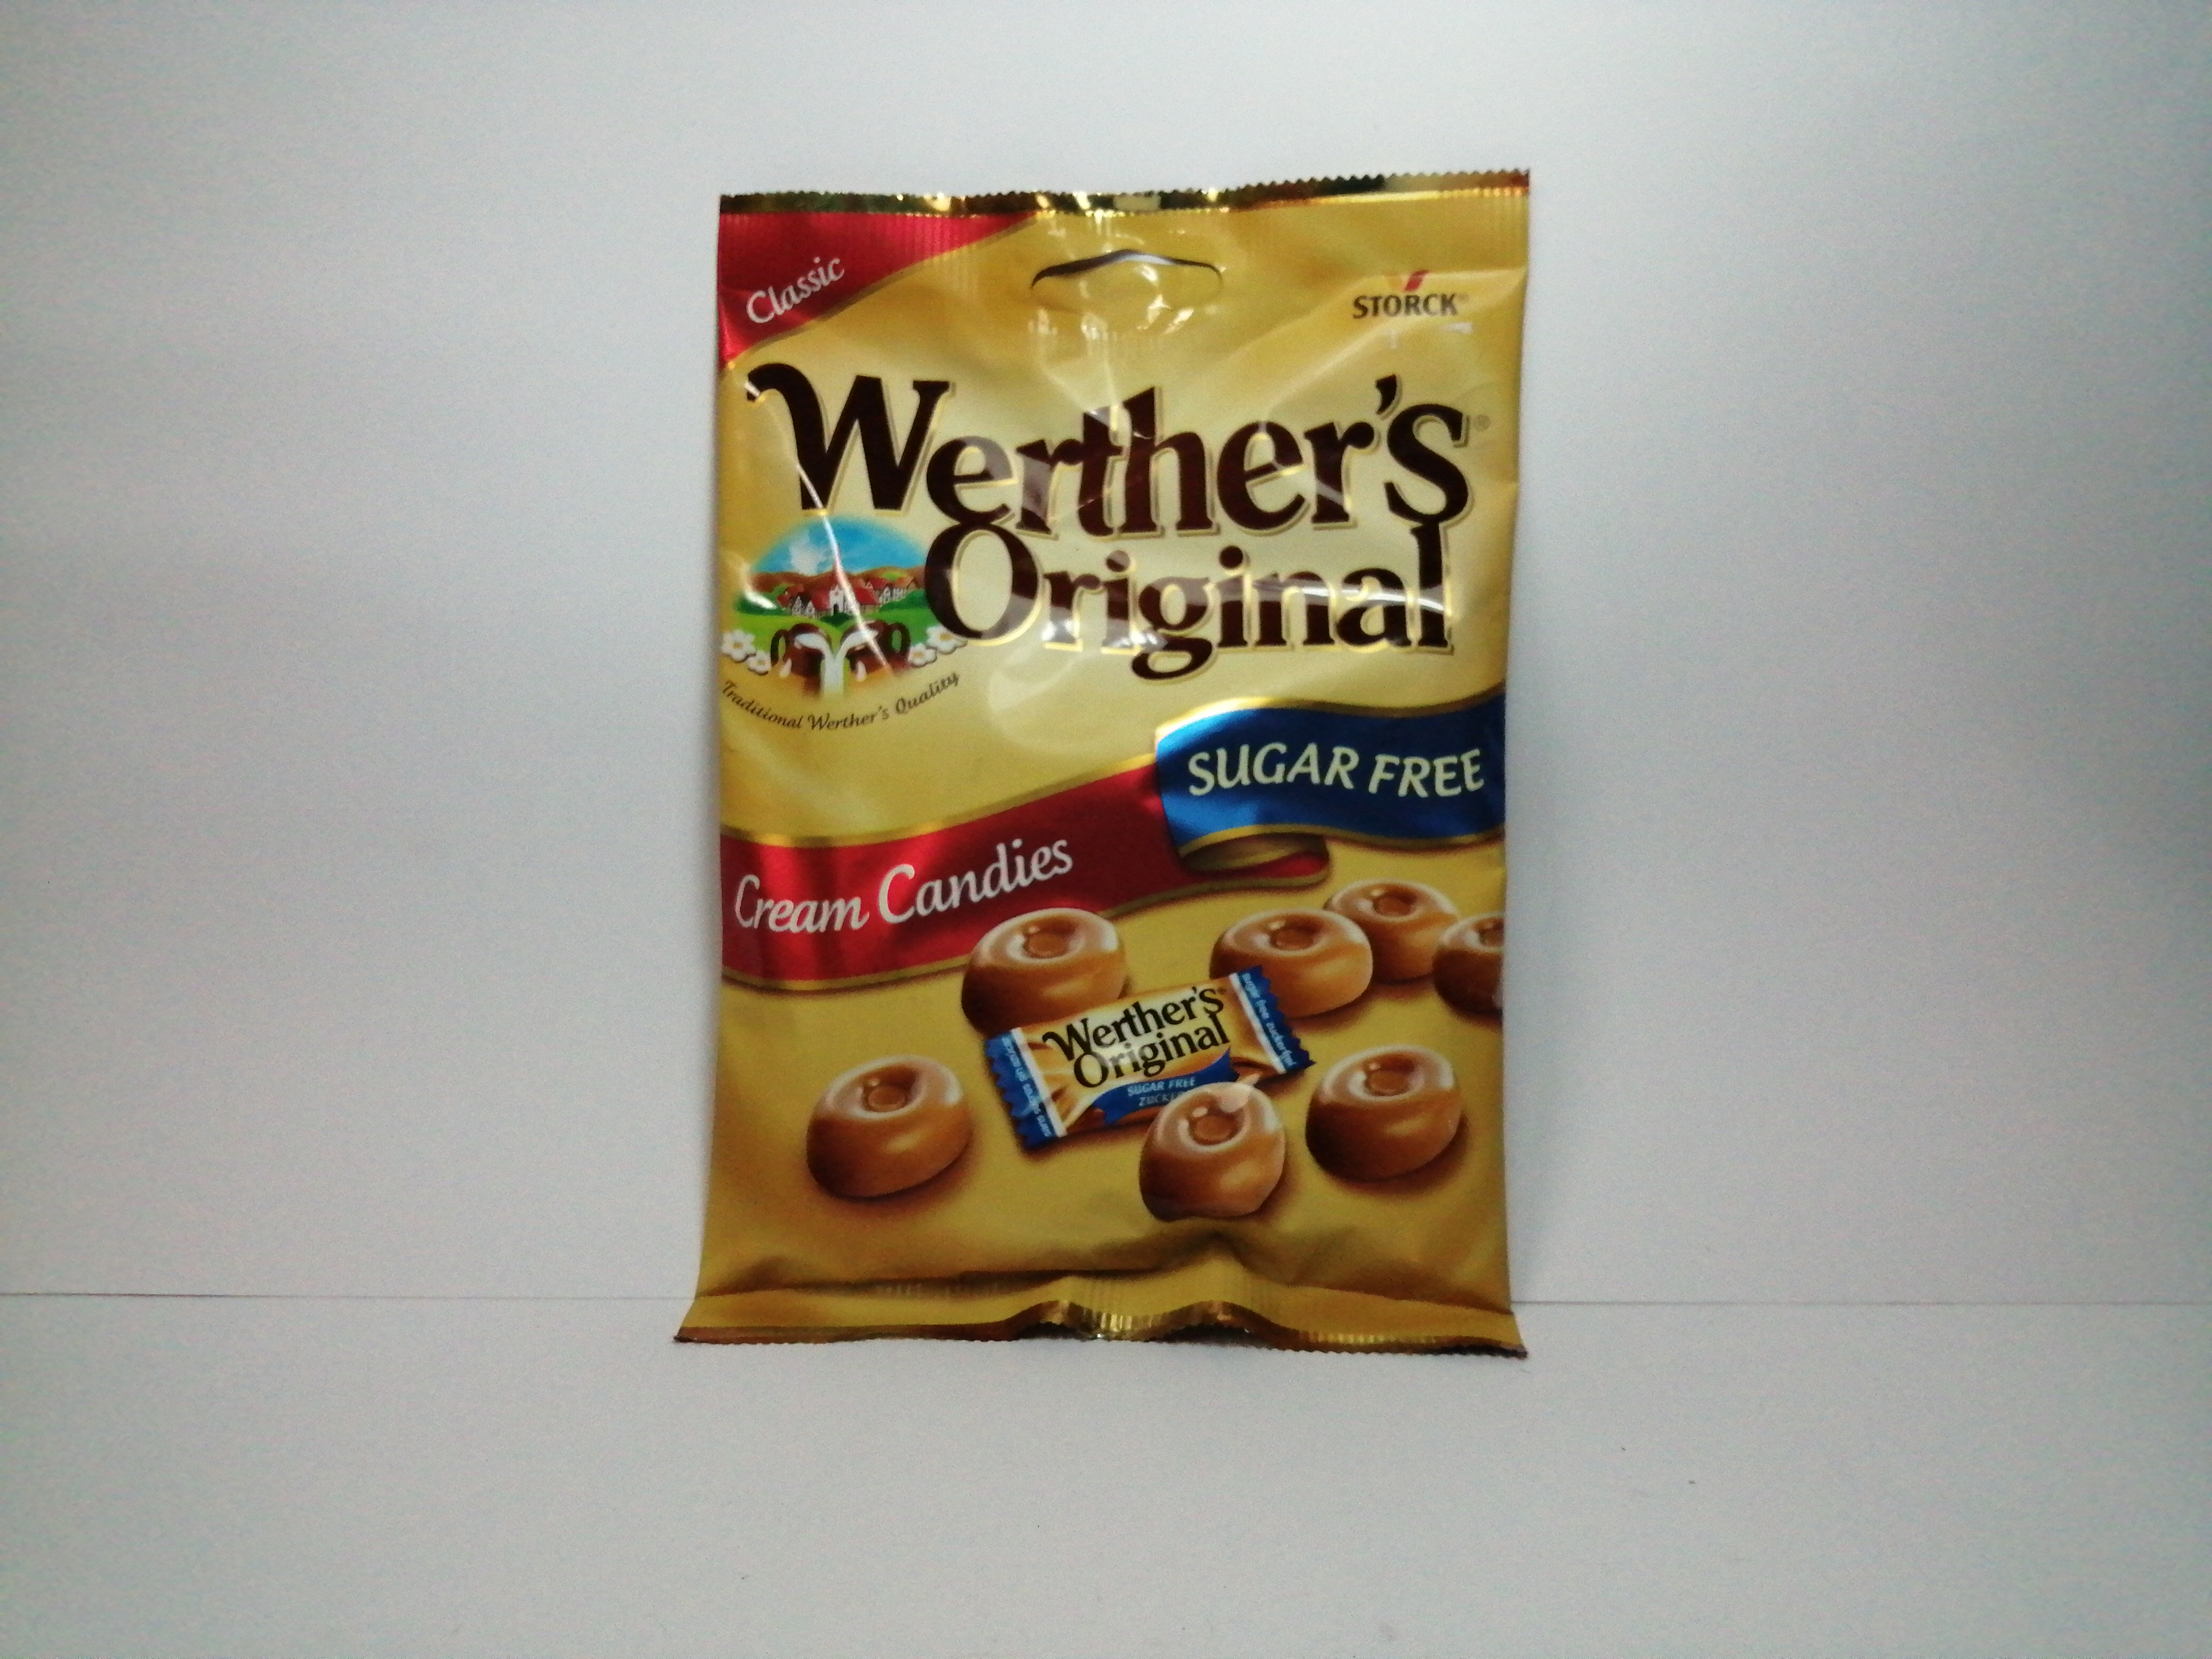dulces: (683, 197, 1529, 1359)
